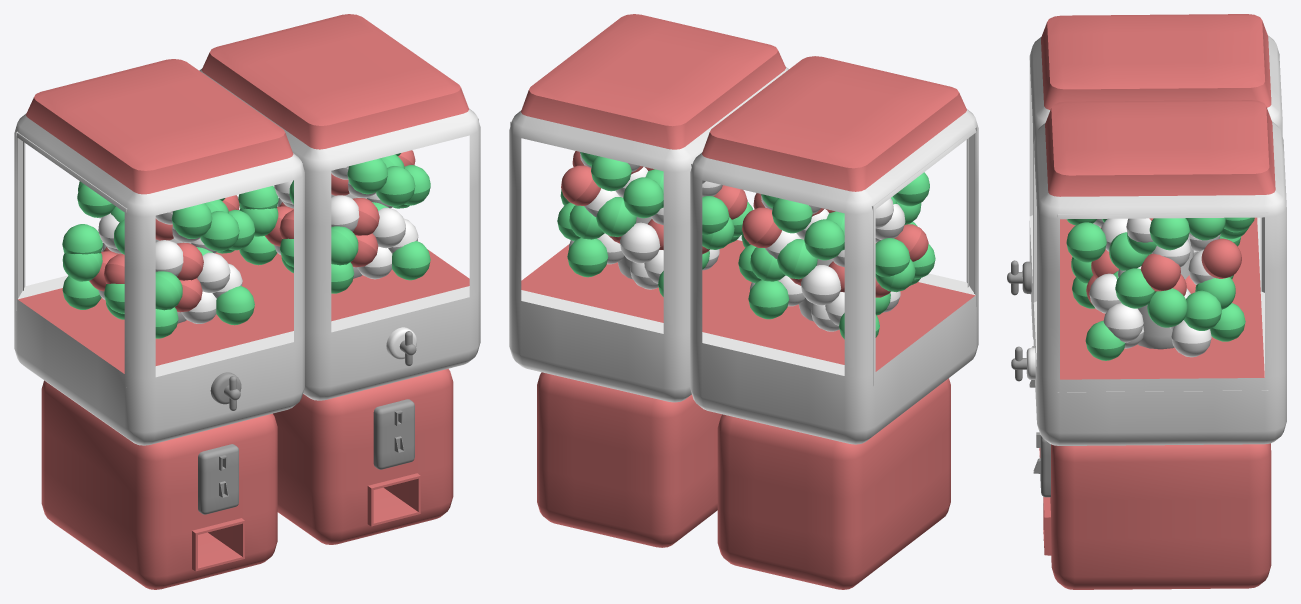
The picture shows the model from 3 angles, left to right: view 1: azimuth 30°, elevation 25°; view 2: azimuth 150°, elevation 25°; view 3: azimuth 270°, elevation 25°; orthographic projection.
Visible parts, largest first — view 1: 문방구_1; view 2: 문방구_1; view 3: 문방구_1.
Part boxes in pixels (x1,y1,x2,y2): 문방구_1: (14,14,480,589); 문방구_1: (509,14,978,589); 문방구_1: (1007,14,1286,589).
Size of the model in its own units: 2.94 by 3.36 by 1.99.
